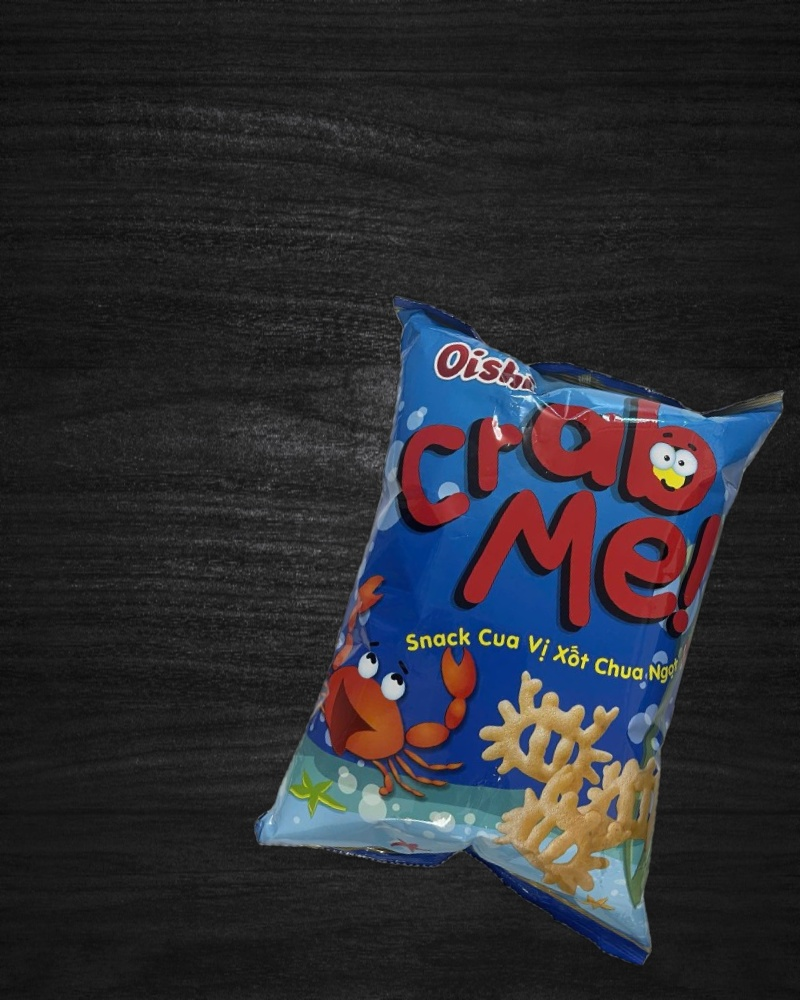Snack chay: (243, 288, 800, 970)
